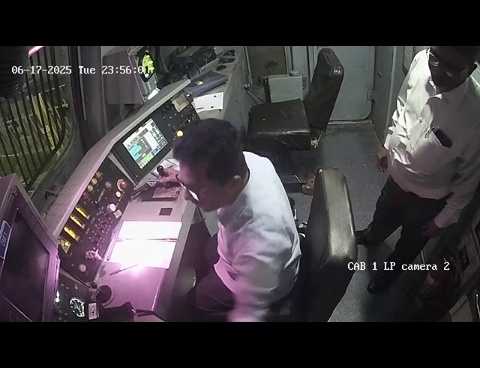horn_inactive: (81, 277, 120, 311)
